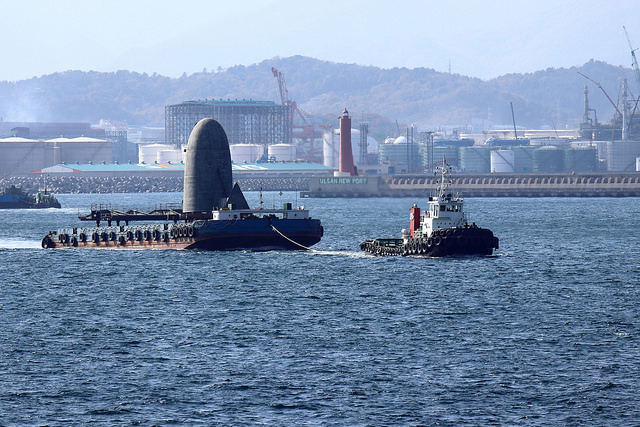boat: (43, 193, 326, 250)
tug_boat: (350, 164, 499, 263)
